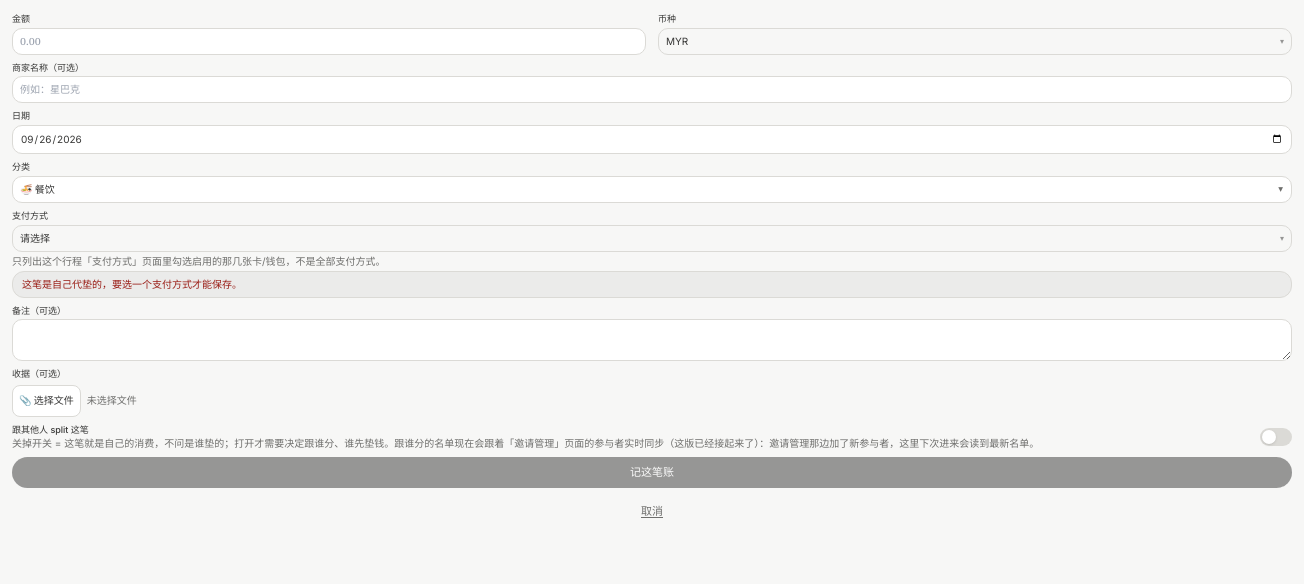
Scenario: ExpenseForm — 第七十一轮任务①：汇率自动带入 + 当地金额展示 › 币种切到非本位币后，自动拉汇率并填进汇率框，旁边"当地金额"跟着算出来
Type "750" into the field labelled "金额".
click(329, 41); type("750")  # box [12,28,646,54]
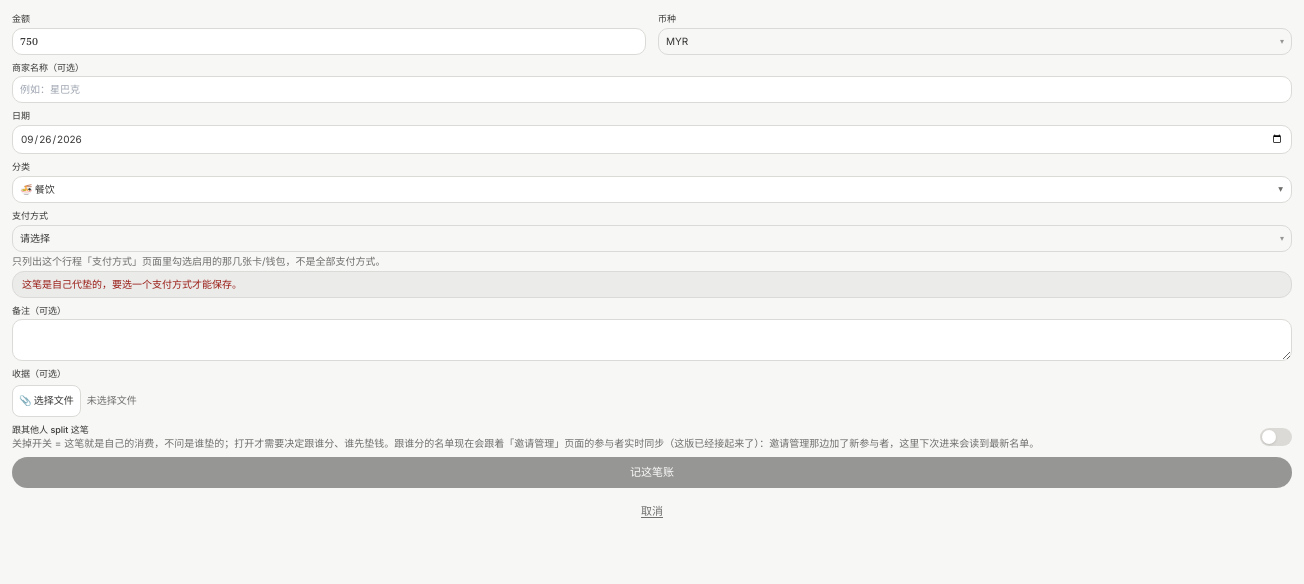
Click the button named "币种".
click(677, 40)  # box [658,28,1292,54]
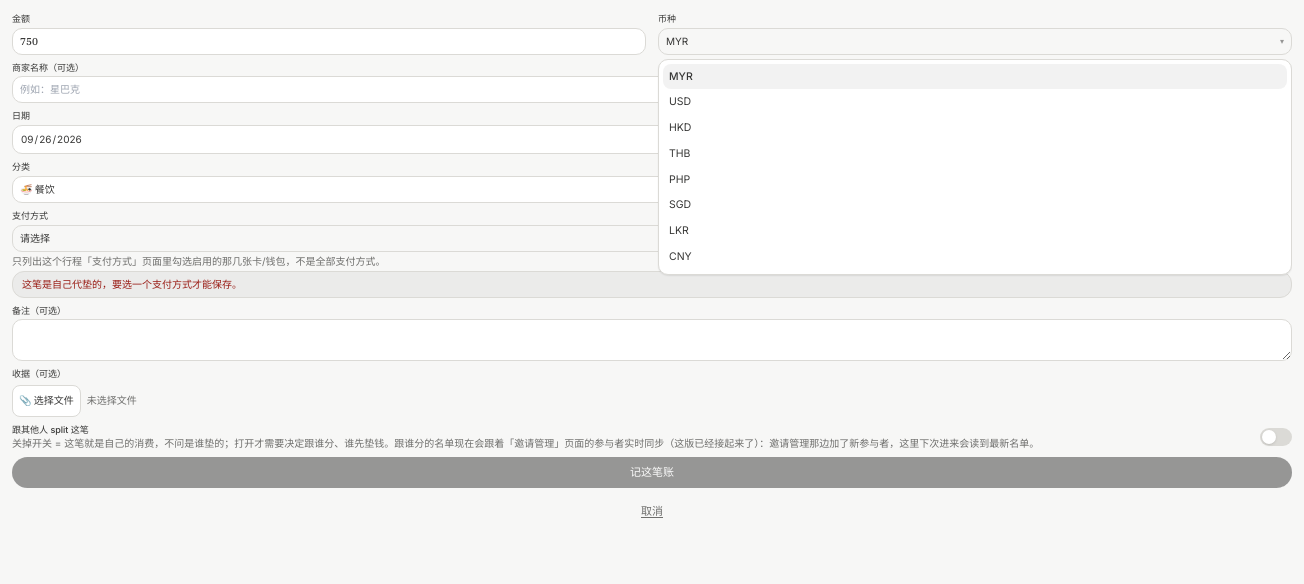
Press the mouse on the option "THB" at x=680, y=153, box [669,147,690,160]
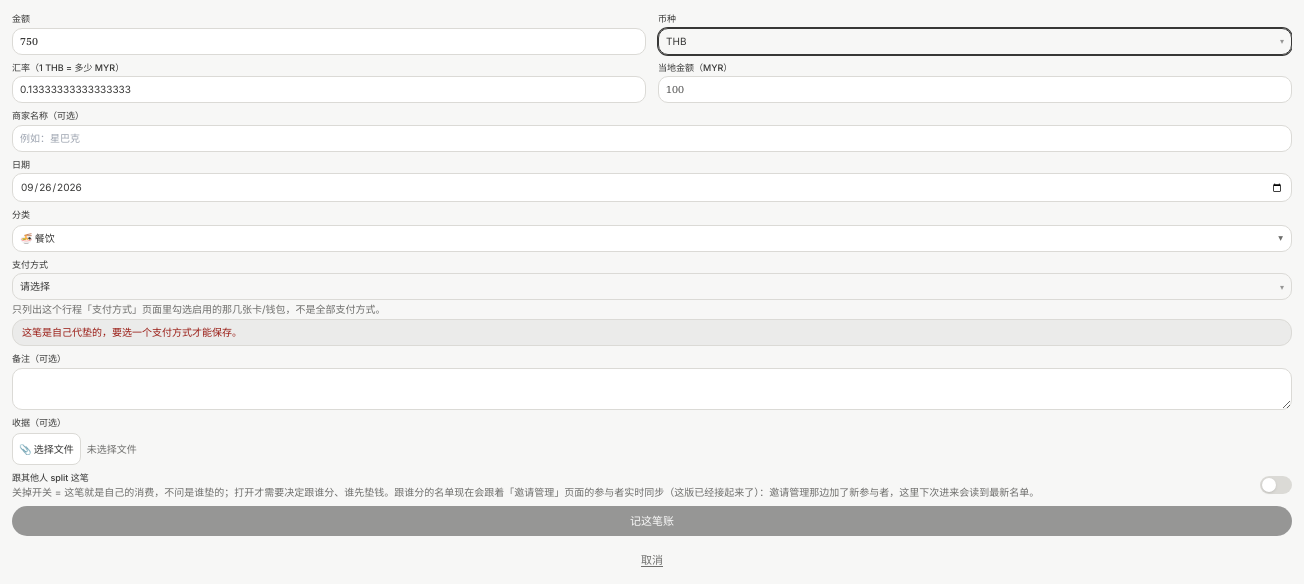
Now the number field labelled "汇率（1 THB = 多少 MYR）" is not empty, box [12,76,646,103]
